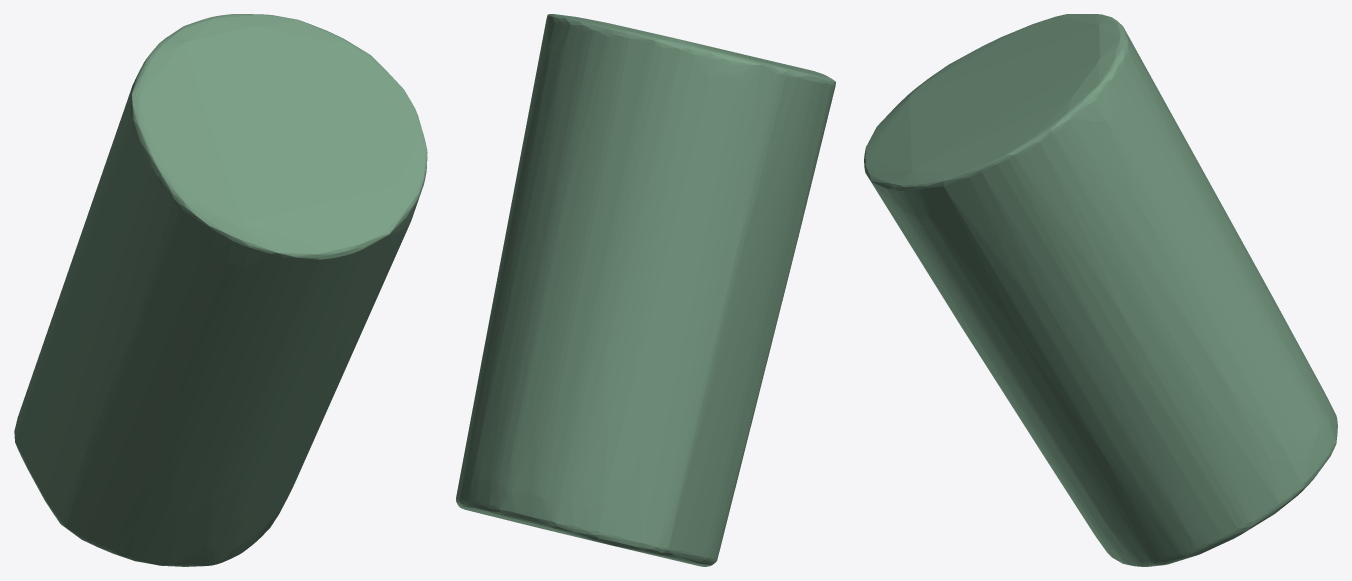
File: 0_decomposed.obj
3 renders of one model, left to right at view 1: azimuth 30°, elevation 25°; view 2: azimuth 150°, elevation 25°; view 3: azimuth 270°, elevation 25°, orthographic. The views are drawn at different scales.
Parts seen in each view (by area): view 1: geometry_0; view 2: geometry_0; view 3: geometry_0.
Part boxes in pixels (x1=…): geometry_0: x1=14, y1=14, x2=427, y2=566; geometry_0: x1=456, y1=14, x2=835, y2=566; geometry_0: x1=864, y1=14, x2=1337, y2=566.
Size of the model in its own units: 0.0515 by 0.1023 by 0.086.
